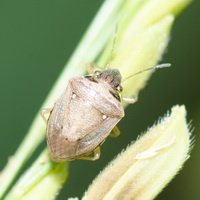insect: (41, 34, 159, 161)
